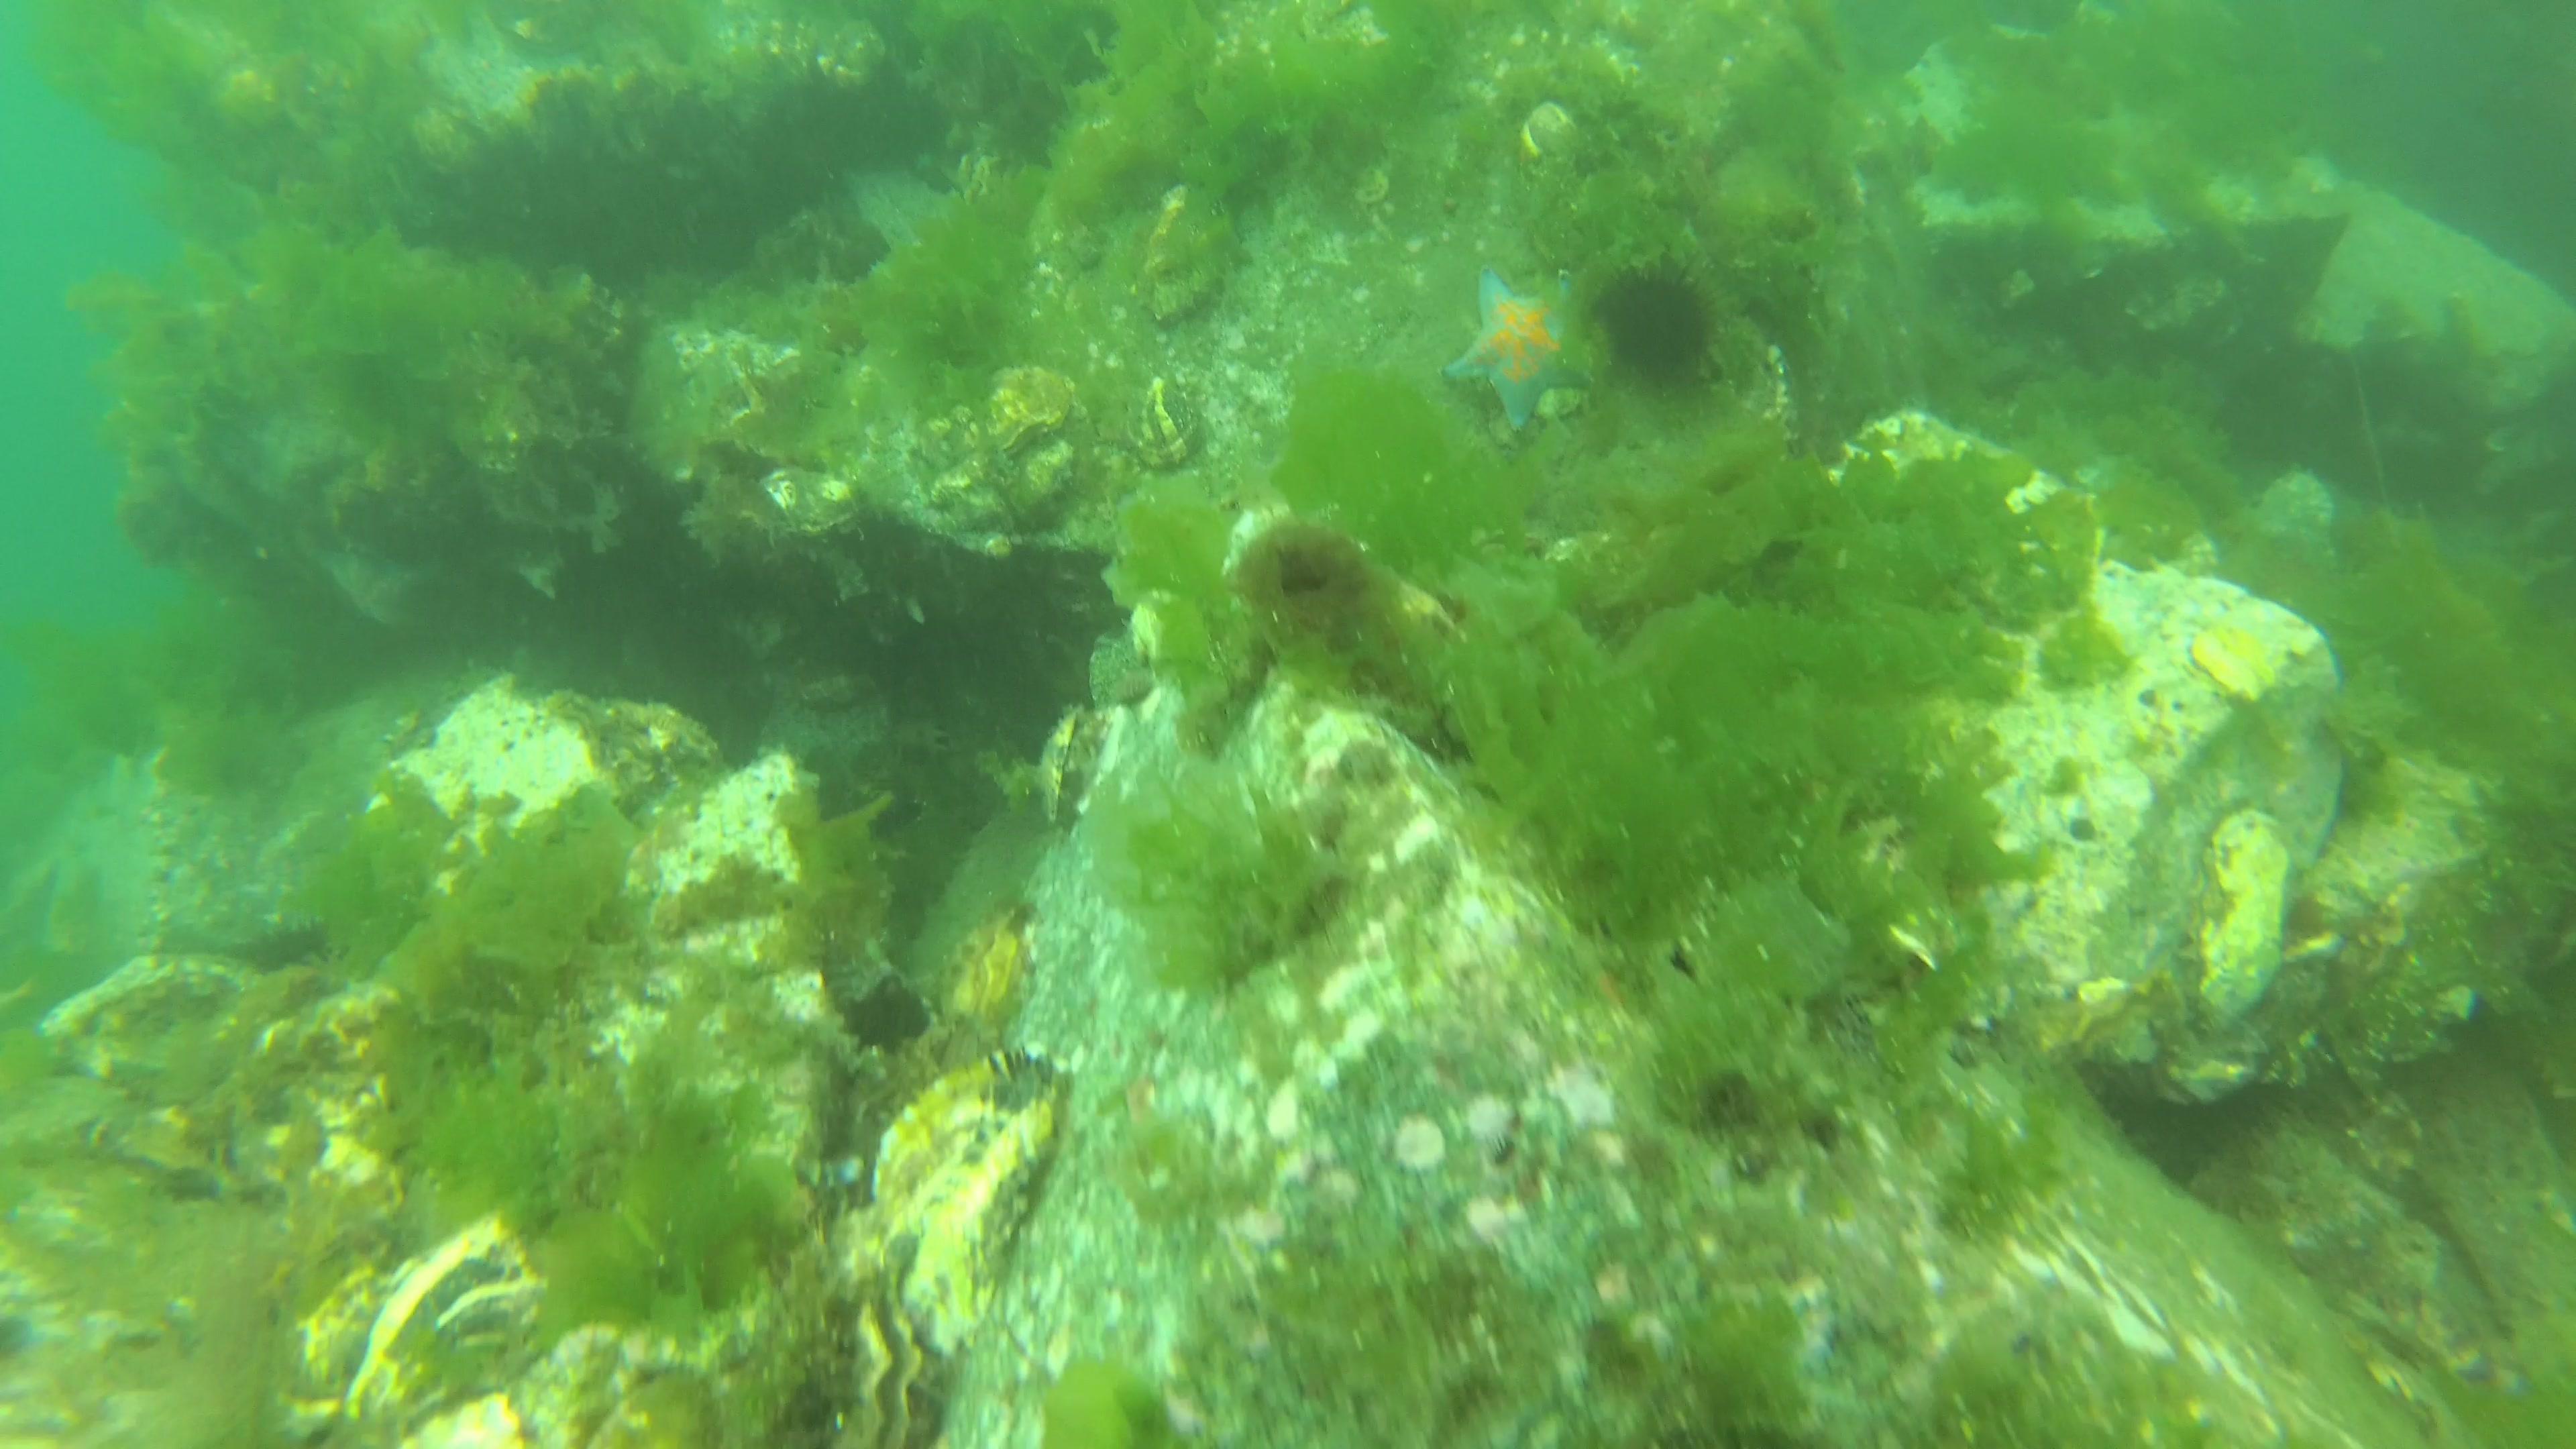echinus: (1580, 246, 1727, 403)
holothurian: (205, 909, 340, 975)
scallop: (1024, 699, 1092, 839)
starfish: (1445, 264, 1582, 433)
